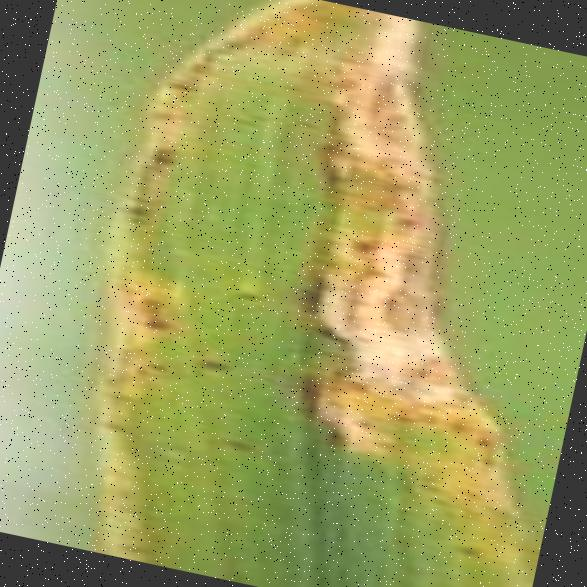Bacteria_Leaf_Blight: (38, 0, 511, 587)
